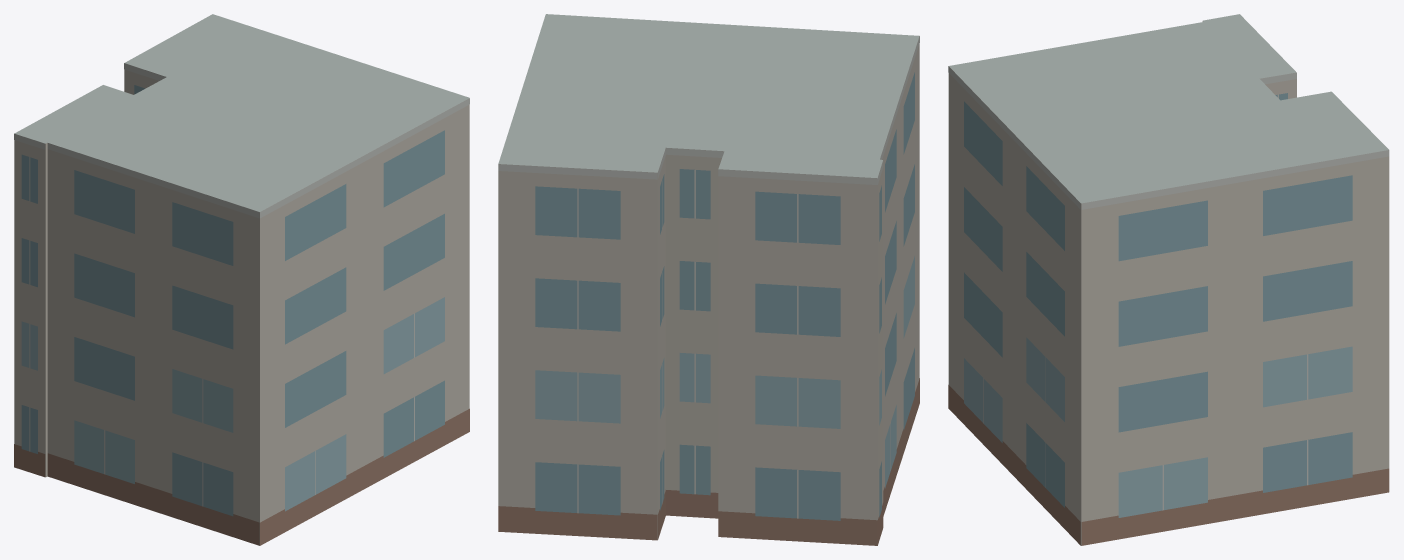
File: survey-upis-32969366.glb
The picture shows the model from 3 angles, left to right: view 1: azimuth 30°, elevation 25°; view 2: azimuth 150°, elevation 25°; view 3: azimuth 270°, elevation 25°; orthographic projection. The views are drawn at different scales.
Visible parts, largest first — view 1: survey-upis-32969366.tmp; view 2: survey-upis-32969366.tmp; view 3: survey-upis-32969366.tmp.
Part boxes in pixels (x1=…): survey-upis-32969366.tmp: x1=14, y1=14, x2=469, y2=545; survey-upis-32969366.tmp: x1=498, y1=14, x2=919, y2=545; survey-upis-32969366.tmp: x1=948, y1=14, x2=1389, y2=545.
Bounding box in the file's own units: 15.26 × 12.85 × 15.
